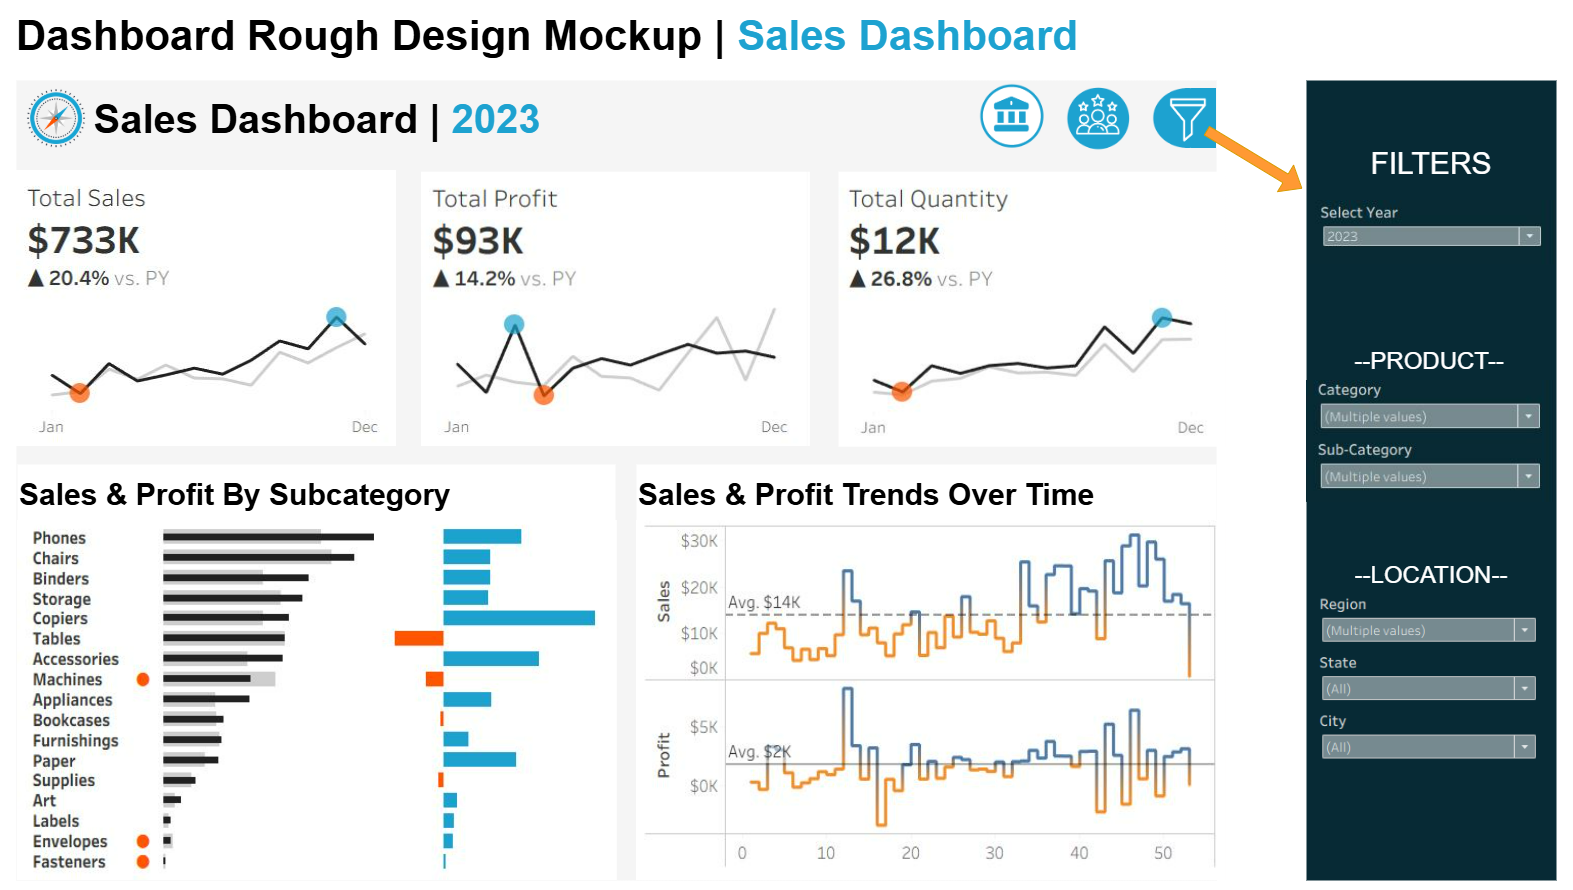

What the dashboard file says about the page in this screenshot:
{"tool":"tableau","page":{"name":"Sales Dashboard","canvas":[1200,800],"ordinal":1},"visuals":[{"type":"image","param":"Image/logo.png","box":[0,0,68,60]},{"type":"text","box":[68,0,794,60]},{"type":"dashboard-object","box":[941,8,91,68]},{"type":"dashboard-object","box":[1032,8,91,68]},{"type":"blank","box":[953,9,237,78]},{"type":"worksheet","title":"Legend KPI","mark":"Automatic","box":[0,60,1200,36]},{"type":"text","box":[953,87,237,40]},{"type":"worksheet","title":"KPI Sales","mark":"Automatic","rows":["Calculation_1264991405330436"],"cols":["Order Date"],"box":[0,96,400,286]},{"type":"worksheet","title":"KPI Profit","mark":"Automatic","rows":["Min/Max Sales (copy)_1264991429804045"],"cols":["Order Date"],"box":[400,96,400,286]},{"type":"worksheet","title":"KPI Quantity","mark":"Automatic","rows":["Min/Max Profit (copy)_1264991447748627"],"cols":["Order Date"],"box":[800,96,400,286]},{"type":"parameter","param":"[Parameters].[Parameter 1]","box":[953,127,237,56]},{"type":"blank","box":[953,183,237,61]},{"type":"text","box":[953,244,237,33]},{"type":"filter","title":"KPI Sales","param":"[federated.1uo2da51ts00gj18be41n16k7q31].[none:Category:nk]","box":[953,277,237,61]},{"type":"filter","title":"KPI Sales","param":"[federated.1uo2da51ts00gj18be41n16k7q31].[none:Sub-Category:nk]","box":[953,338,237,61]},{"type":"text","box":[17,399,566,40]},{"type":"text","box":[617,399,566,40]},{"type":"blank","box":[953,399,237,60]},{"type":"worksheet","title":"Legend Subcategory","mark":"Automatic","box":[17,439,382,32]},{"type":"text","box":[399,439,184,32]},{"type":"text","box":[617,439,566,29]},{"type":"text","box":[953,459,237,33]},{"type":"worksheet","title":"Weekly Trends","mark":"Automatic","rows":["Calculation_1264991391928320","CY Sales (copy)_1264991425785866"],"cols":["Order Date"],"box":[617,468,566,315]},{"type":"worksheet","title":"Subcategory Comparison","mark":"Bar","rows":["Sub-Category","Calculation_1264991461298198"],"cols":["CY Sales (copy)_1264991392141313","Calculation_1264991391928320","CY Sales (copy)_1264991425785866"],"box":[17,471,566,312]},{"type":"filter","title":"KPI Sales","param":"[federated.1uo2da51ts00gj18be41n16k7q31].[none:Region:nk]","box":[953,492,237,61]},{"type":"filter","title":"KPI Sales","param":"[federated.1uo2da51ts00gj18be41n16k7q31].[none:State:nk]","box":[953,553,237,61]},{"type":"filter","title":"KPI Sales","param":"[federated.1uo2da51ts00gj18be41n16k7q31].[none:City:nk]","box":[953,614,237,61]}]}

Visuals, with their boxes on the page's 1200x800 design canvas (x1, y1, x2, y2). These are canvas units, not pixel positions in the 1573x890 screenshot, which may show the page scaled, cropped or inside an application window:
image: [x1=0, y1=0, x2=68, y2=60]
text: [x1=68, y1=0, x2=862, y2=60]
dashboard-object: [x1=941, y1=8, x2=1032, y2=76]
dashboard-object: [x1=1032, y1=8, x2=1123, y2=76]
blank: [x1=953, y1=9, x2=1190, y2=87]
"Legend KPI" worksheet: [x1=0, y1=60, x2=1200, y2=96]
text: [x1=953, y1=87, x2=1190, y2=127]
"KPI Sales" worksheet: [x1=0, y1=96, x2=400, y2=382]
"KPI Profit" worksheet: [x1=400, y1=96, x2=800, y2=382]
"KPI Quantity" worksheet: [x1=800, y1=96, x2=1200, y2=382]
parameter: [x1=953, y1=127, x2=1190, y2=183]
blank: [x1=953, y1=183, x2=1190, y2=244]
text: [x1=953, y1=244, x2=1190, y2=277]
"KPI Sales" filter: [x1=953, y1=277, x2=1190, y2=338]
"KPI Sales" filter: [x1=953, y1=338, x2=1190, y2=399]
text: [x1=17, y1=399, x2=583, y2=439]
text: [x1=617, y1=399, x2=1183, y2=439]
blank: [x1=953, y1=399, x2=1190, y2=459]
"Legend Subcategory" worksheet: [x1=17, y1=439, x2=399, y2=471]
text: [x1=399, y1=439, x2=583, y2=471]
text: [x1=617, y1=439, x2=1183, y2=468]
text: [x1=953, y1=459, x2=1190, y2=492]
"Weekly Trends" worksheet: [x1=617, y1=468, x2=1183, y2=783]
"Subcategory Comparison" worksheet (Bar marks): [x1=17, y1=471, x2=583, y2=783]
"KPI Sales" filter: [x1=953, y1=492, x2=1190, y2=553]
"KPI Sales" filter: [x1=953, y1=553, x2=1190, y2=614]
"KPI Sales" filter: [x1=953, y1=614, x2=1190, y2=675]
